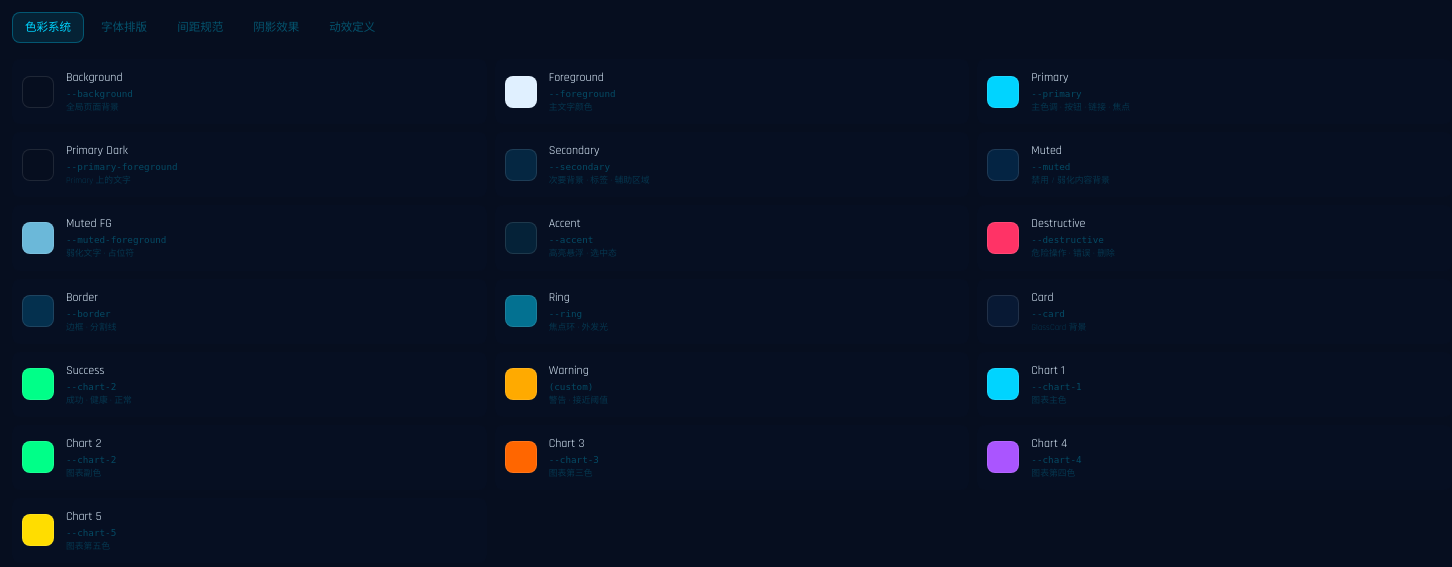
it: DesignTokens › 渲染 › 切换到阴影标签
This screenshot has width=1452, height=567.
Click the button with test id "token-tab-shadows": coordinates (276, 28) x1=240 y1=12 x2=312 y2=43
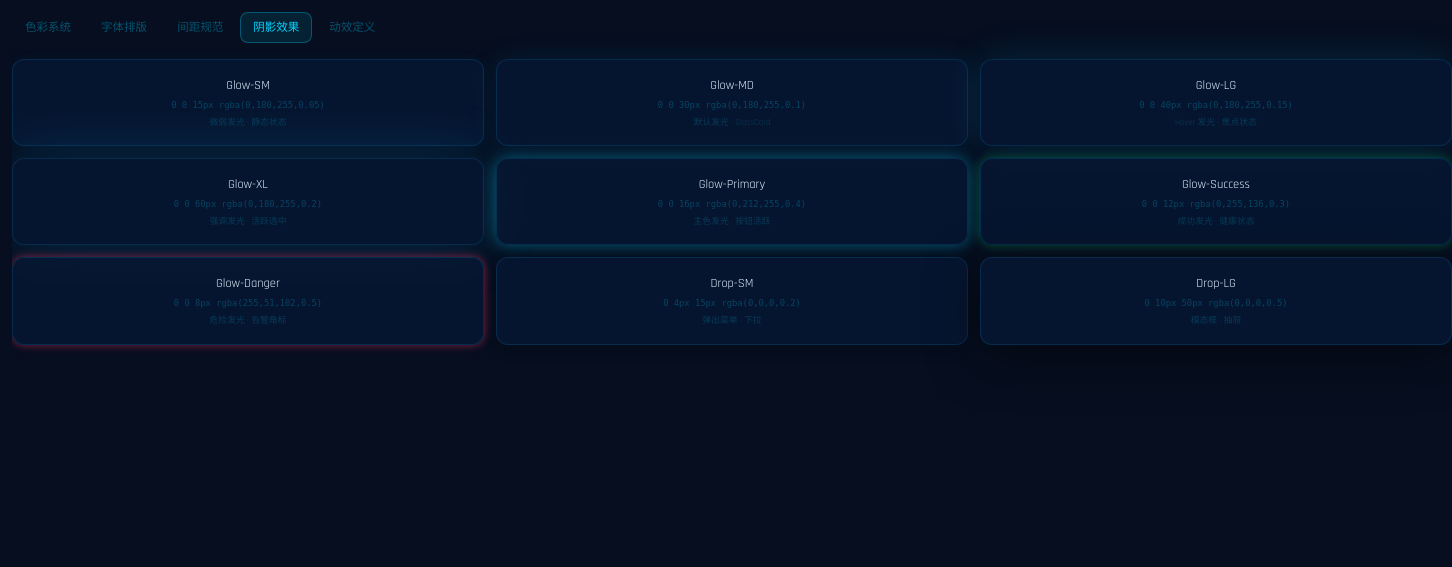
Result: the element with test id "token-shadows" is shown at x1=12 y1=59 x2=1451 y2=345
